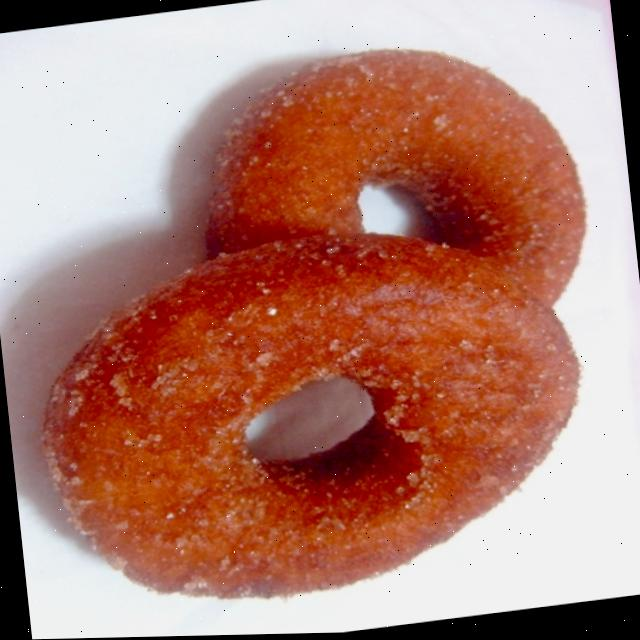炸货点心: (0, 20, 629, 617)
